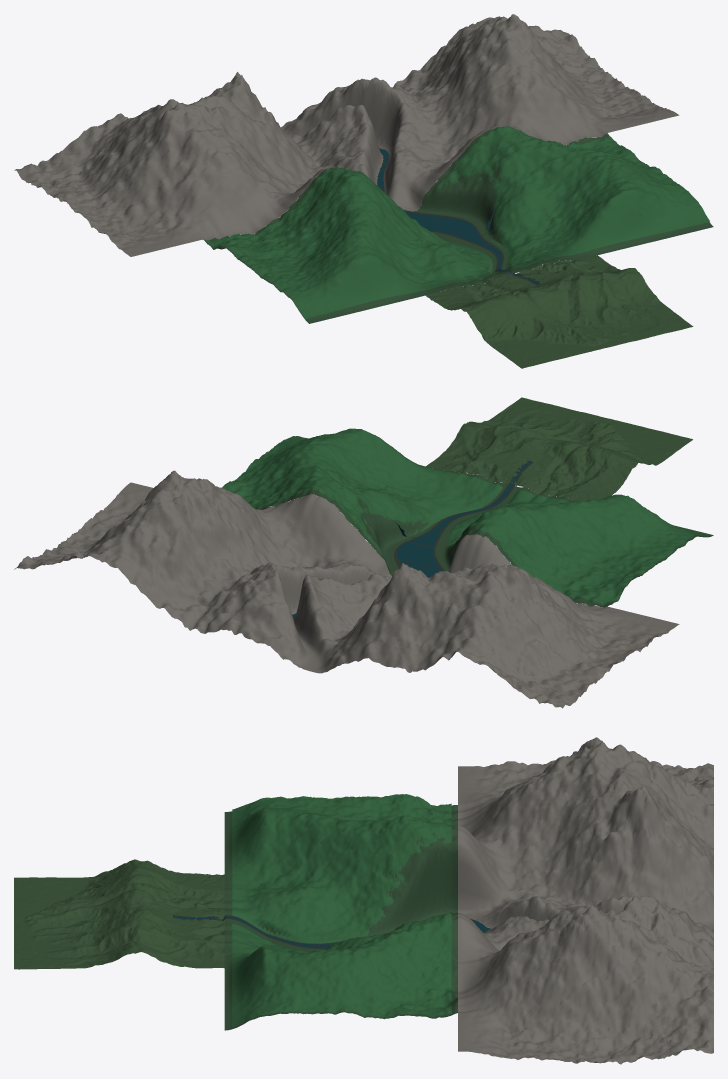
File: madagin-ridge-to-valley-high-v1.15.glb
3 renders of one model, top to bottom at view 1: azimuth 30°, elevation 25°; view 2: azimuth 150°, elevation 25°; view 3: azimuth 270°, elevation 25°, orthographic. The views are drawn at different scales.
Parts seen in each view (by area): view 1: ALPINE_VALLEY_V115_HIGH, FALLBACK_CANOPY_SHELL_V115_HIGH, RIDGE_V115_HIGH, TROPICAL_VALLEY_V115_HIGH, RIDGE_V115_CONTINUOUS_RIVER_AND_LAKE, RIDGE_V115_WET_RIVER_BANKS; view 2: ALPINE_VALLEY_V115_HIGH, FALLBACK_CANOPY_SHELL_V115_HIGH, RIDGE_V115_HIGH, TROPICAL_VALLEY_V115_HIGH, RIDGE_V115_CONTINUOUS_RIVER_AND_LAKE, RIDGE_V115_WET_RIVER_BANKS; view 3: ALPINE_VALLEY_V115_HIGH, FALLBACK_CANOPY_SHELL_V115_HIGH, RIDGE_V115_HIGH, TROPICAL_VALLEY_V115_HIGH.
Boxes of the visible parts, <box> form: ALPINE_VALLEY_V115_HIGH: <box>14,14,679,256</box>; FALLBACK_CANOPY_SHELL_V115_HIGH: <box>206,126,709,318</box>; RIDGE_V115_HIGH: <box>426,255,693,368</box>; TROPICAL_VALLEY_V115_HIGH: <box>203,127,713,323</box>; RIDGE_V115_CONTINUOUS_RIVER_AND_LAKE: <box>377,148,540,284</box>; RIDGE_V115_WET_RIVER_BANKS: <box>377,148,539,285</box>; ALPINE_VALLEY_V115_HIGH: <box>14,470,679,708</box>; FALLBACK_CANOPY_SHELL_V115_HIGH: <box>222,428,709,604</box>; RIDGE_V115_HIGH: <box>426,397,692,500</box>; TROPICAL_VALLEY_V115_HIGH: <box>256,466,713,607</box>; RIDGE_V115_CONTINUOUS_RIVER_AND_LAKE: <box>292,460,531,618</box>; RIDGE_V115_WET_RIVER_BANKS: <box>394,460,533,571</box>; ALPINE_VALLEY_V115_HIGH: <box>458,737,713,1064</box>; FALLBACK_CANOPY_SHELL_V115_HIGH: <box>232,794,451,1026</box>; RIDGE_V115_HIGH: <box>14,859,224,969</box>; TROPICAL_VALLEY_V115_HIGH: <box>224,805,457,1030</box>.
Bounding box in the file's own units: 1980 × 440 × 1995.
